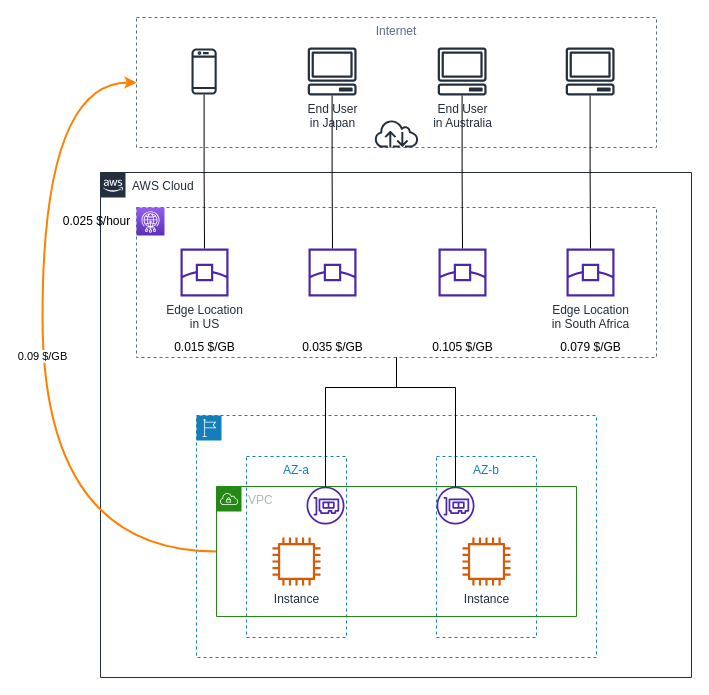
Image size: 709x695. Some labels were removed from this diagram. Here are the shapes that lost their labels. From the top down, the box of each, then its label:
(191, 47, 216, 95): End User in US
(565, 47, 614, 95): End User in South Africa
(308, 248, 356, 296): Edge Location in Japan
(136, 206, 656, 358): Global Accelerator
(438, 248, 486, 296): Edge Location in Australia
(196, 414, 596, 658): IAD (us-east-1)
